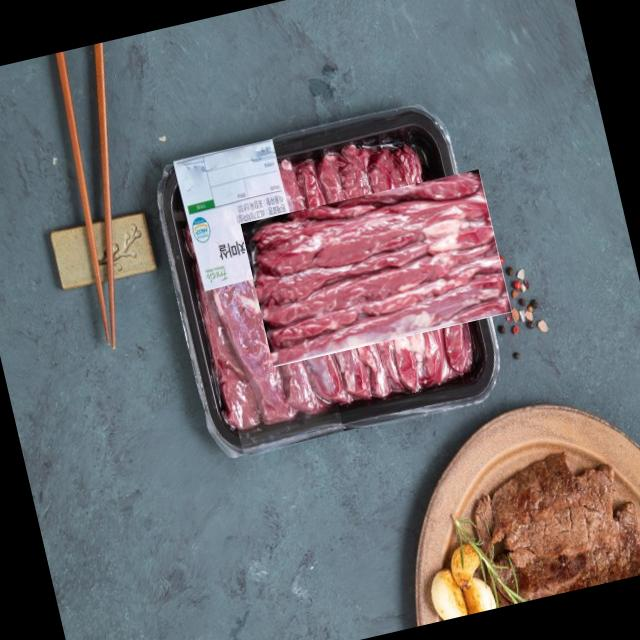beef: (258, 150, 494, 385)
